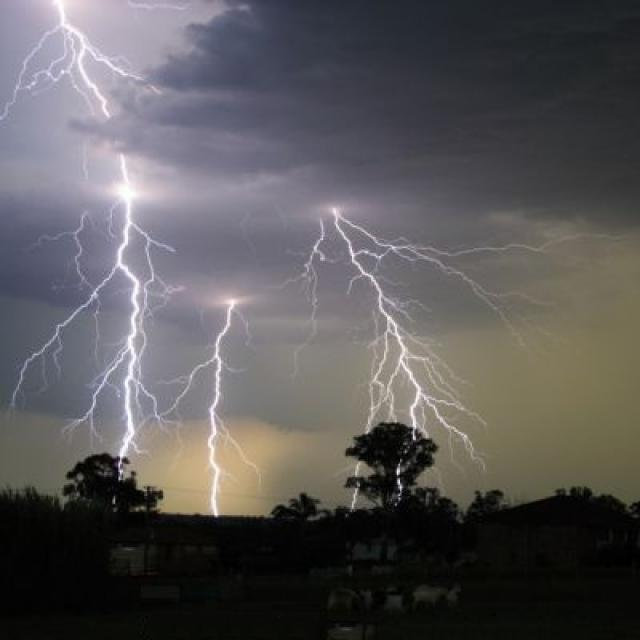Cb: (1, 5, 640, 410)
